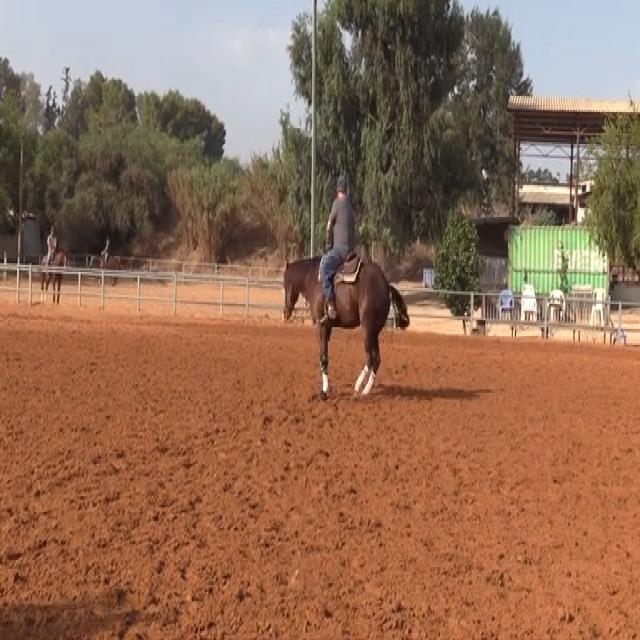horse: (279, 249, 410, 402)
